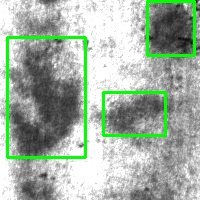patches: (7, 37, 85, 157), (103, 92, 165, 135), (147, 1, 194, 55)
